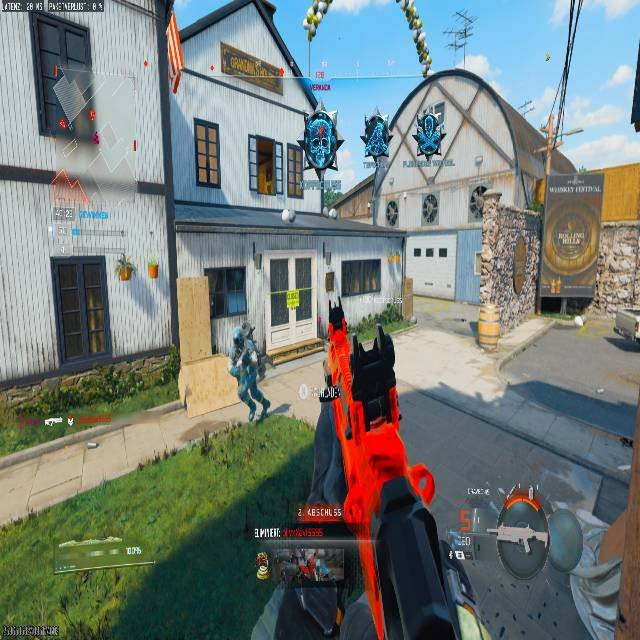head: (235, 321, 255, 344)
player: (227, 322, 271, 425), (299, 107, 343, 182), (413, 112, 445, 161), (423, 193, 437, 223), (386, 200, 398, 225)
